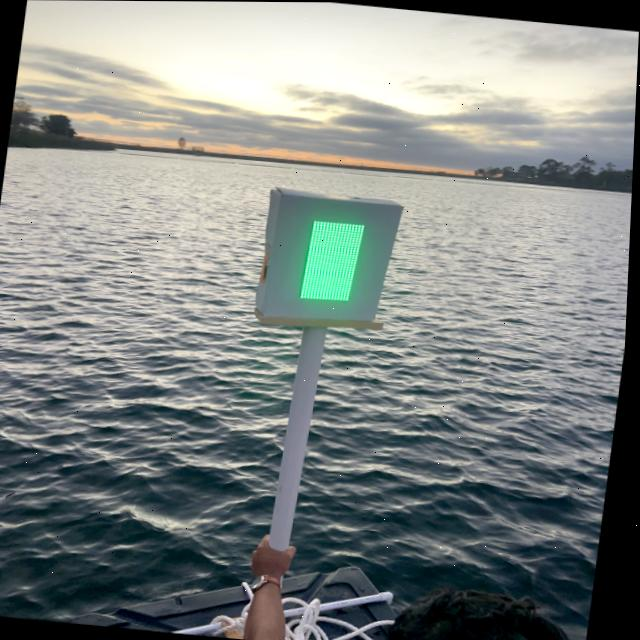led: (290, 213, 381, 316)
